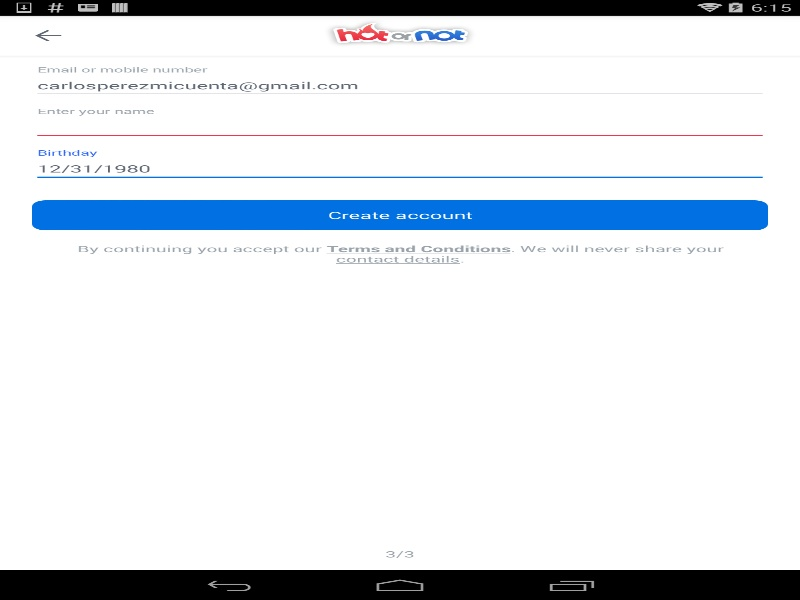Button: (32, 200, 768, 230), (10, 15, 85, 55)
Input: (32, 72, 768, 99), (32, 155, 768, 182), (32, 114, 768, 140)
